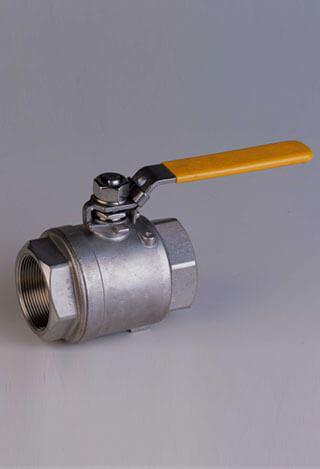opened valve: (11, 137, 315, 348)
